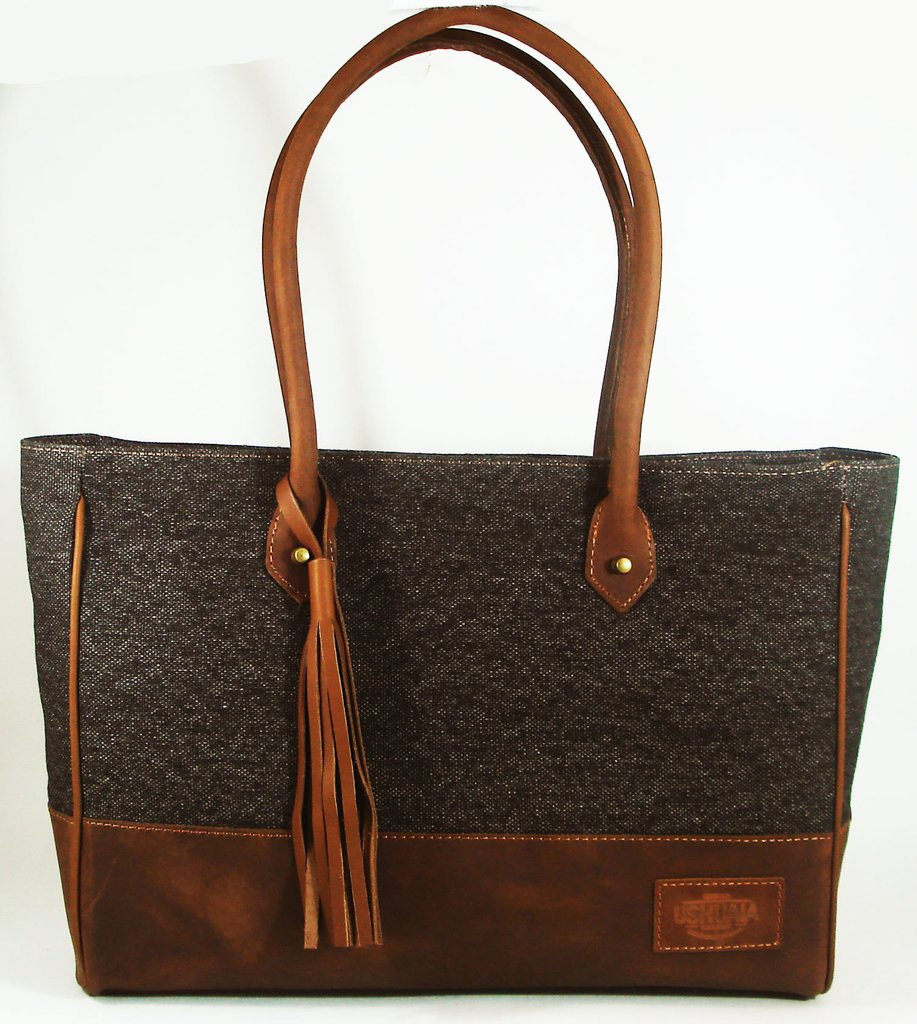cartera: (1, 19, 899, 1009)
lona: (25, 446, 881, 819)
